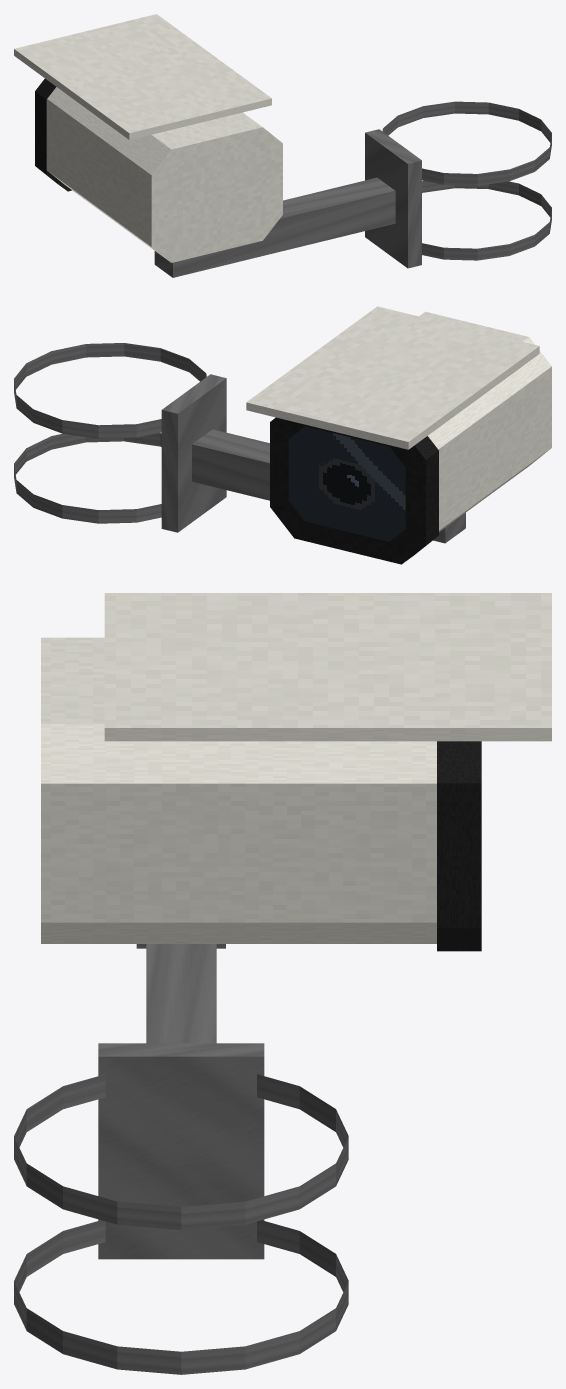
The model's file is red_light_camera_side_right_thin.obj.
3 renders of one model, top to bottom at view 1: azimuth 30°, elevation 25°; view 2: azimuth 150°, elevation 25°; view 3: azimuth 270°, elevation 25°, orthographic. The views are drawn at different scales.
Parts seen in each view (by area): view 1: red_light_camera_side_right_thin; view 2: red_light_camera_side_right_thin; view 3: red_light_camera_side_right_thin.
Part boxes in pixels (box(x1,y1,x2,y2)): red_light_camera_side_right_thin: box(14, 14, 551, 277); red_light_camera_side_right_thin: box(14, 306, 551, 564); red_light_camera_side_right_thin: box(14, 593, 551, 1374).
Bounding box in the file's own units: 1.51 × 0.675 × 0.842.
